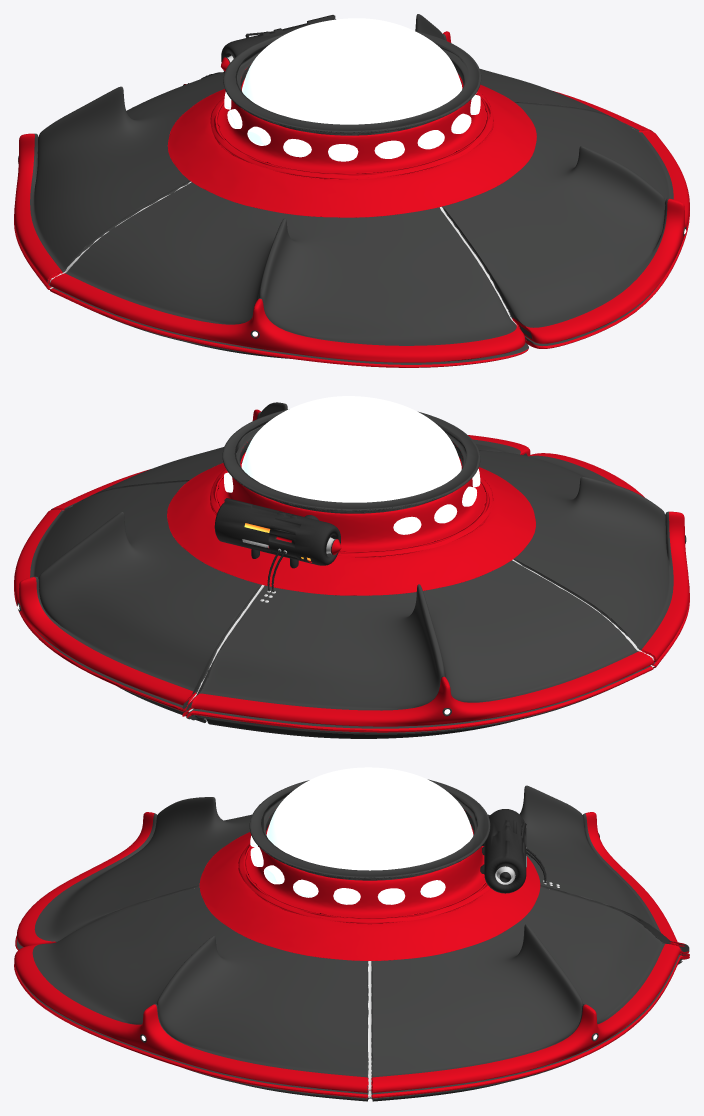
The model's file is flying_saucer.glb.
3 renders of one model, top to bottom at view 1: azimuth 30°, elevation 25°; view 2: azimuth 150°, elevation 25°; view 3: azimuth 270°, elevation 25°, orthographic. The views are drawn at different scales.
Visible parts, largest first — view 1: Ufo Disc_9, Ufo Bottom Part_8, Ufo Top Dome_11, Ufo Top Ring_10, Ufo Top Ring Inner_13, Ufo Top Ring Window_14, Cylinder_34; view 2: Ufo Disc_9, Ufo Top Dome_11, Ufo Bottom Part_8, Ufo Top Ring_10, Cylinder_34, Ufo Top Ring Inner_13, Ufo Top Ring Window_14; view 3: Ufo Disc_9, Ufo Top Dome_11, Ufo Bottom Part_8, Ufo Top Ring_10, Ufo Top Ring Inner_13, Cylinder_34, Ufo Top Ring Window_14.
Part boxes in pixels (x1,y1,x2,y2): Ufo Disc_9: [14, 14, 689, 367]; Ufo Bottom Part_8: [167, 84, 536, 217]; Ufo Top Dome_11: [242, 18, 462, 124]; Ufo Top Ring_10: [210, 67, 493, 179]; Ufo Top Ring Inner_13: [223, 31, 481, 135]; Ufo Top Ring Window_14: [224, 92, 480, 161]; Cylinder_34: [221, 15, 335, 72]; Ufo Disc_9: [14, 402, 689, 738]; Ufo Top Dome_11: [241, 396, 461, 502]; Ufo Bottom Part_8: [167, 463, 535, 595]; Ufo Top Ring_10: [210, 442, 493, 557]; Cylinder_34: [214, 498, 341, 565]; Ufo Top Ring Inner_13: [222, 409, 480, 513]; Ufo Top Ring Window_14: [224, 469, 480, 534]; Ufo Disc_9: [14, 785, 689, 1101]; Ufo Top Dome_11: [266, 767, 473, 870]; Ufo Bottom Part_8: [199, 832, 540, 960]; Ufo Top Ring_10: [238, 811, 489, 924]; Ufo Top Ring Inner_13: [249, 779, 490, 880]; Cylinder_34: [484, 809, 526, 893]; Ufo Top Ring Window_14: [250, 836, 445, 904].
Bounding box in the file's own units: 5.65 × 2.43 × 5.7.
